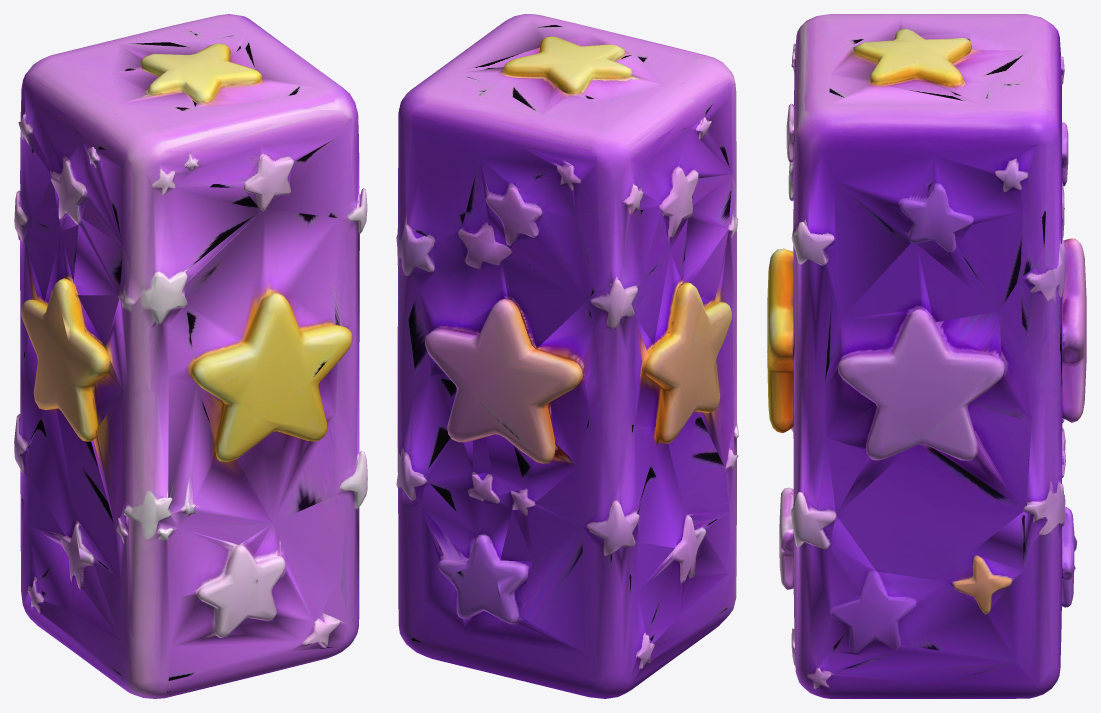
File: mor_dikey_kup.glb
The picture shows the model from 3 angles, left to right: view 1: azimuth 30°, elevation 25°; view 2: azimuth 150°, elevation 25°; view 3: azimuth 270°, elevation 25°; orthographic projection. The views are drawn at different scales.
Visible parts, largest first — view 1: tripo_node_d79025e6-ebd8-48dc-9ced-72a668f0be46; view 2: tripo_node_d79025e6-ebd8-48dc-9ced-72a668f0be46; view 3: tripo_node_d79025e6-ebd8-48dc-9ced-72a668f0be46.
Part boxes in pixels (left/top/right/bottom): tripo_node_d79025e6-ebd8-48dc-9ced-72a668f0be46: left=14, top=14, right=367, bottom=698; tripo_node_d79025e6-ebd8-48dc-9ced-72a668f0be46: left=396, top=14, right=738, bottom=698; tripo_node_d79025e6-ebd8-48dc-9ced-72a668f0be46: left=767, top=14, right=1086, bottom=698.
Size of the model in its own units: 0.4722 by 0.9801 by 0.4717.
Materials: 1 (1 with a texture image).
